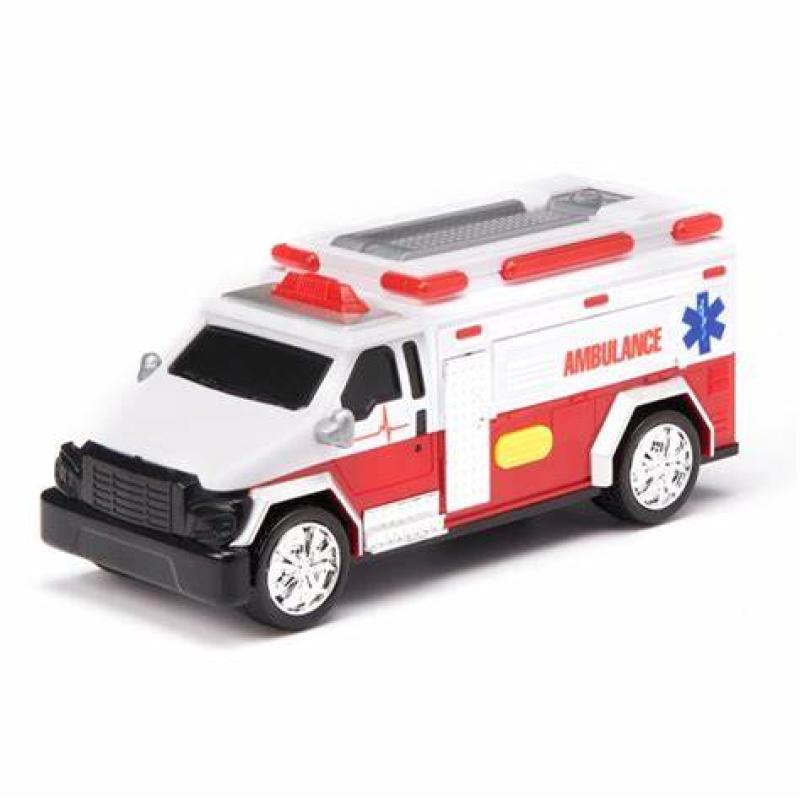AmbulanceSiren: (265, 249, 367, 315)
